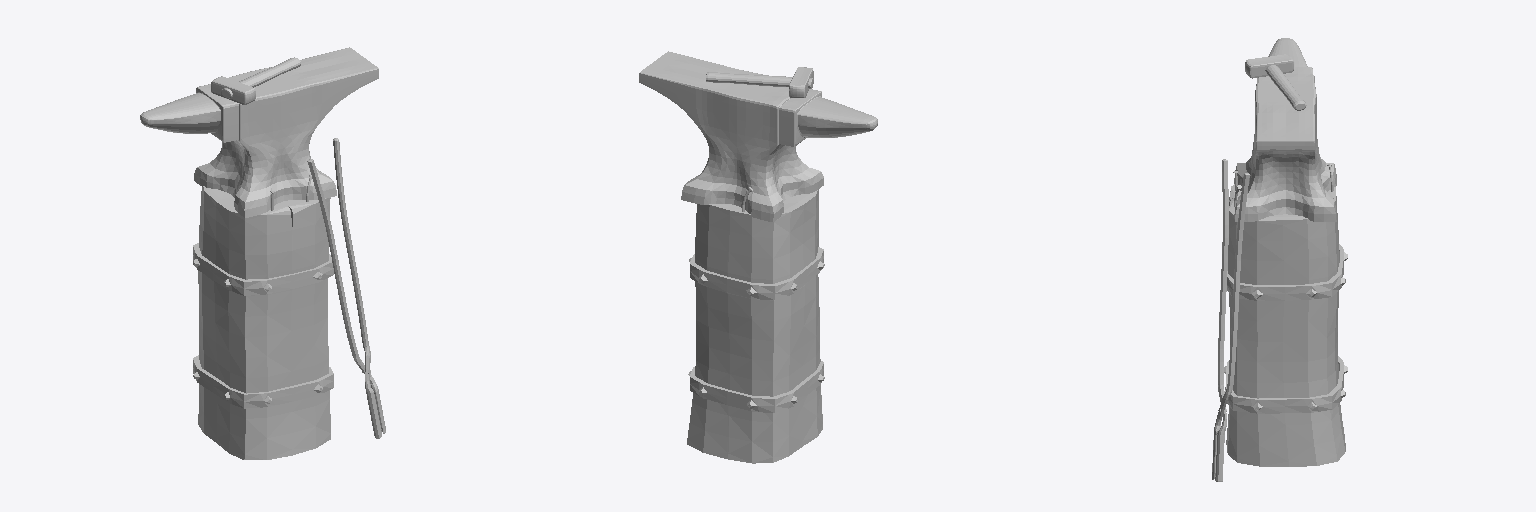
Rendered from anvil_uv.obj.
3 renders of one model, left to right at view 1: azimuth 30°, elevation 25°; view 2: azimuth 150°, elevation 25°; view 3: azimuth 270°, elevation 25°, orthographic.
Parts seen in each view (by area): view 1: Cube:009_Cube:010.002; view 2: Cube:009_Cube:010.002; view 3: Cube:009_Cube:010.002.
Part boxes in pixels (x1,y1,x2,y2): Cube:009_Cube:010.002: (140,47,385,459); Cube:009_Cube:010.002: (639,51,877,463); Cube:009_Cube:010.002: (1212,38,1347,481).
Size of the model in its own units: 4.77 by 7.47 by 2.53.